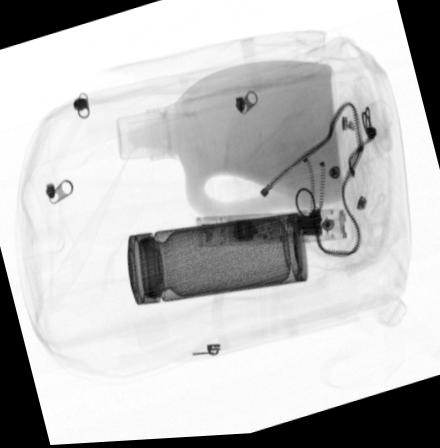Baton: (193, 210, 349, 250)
